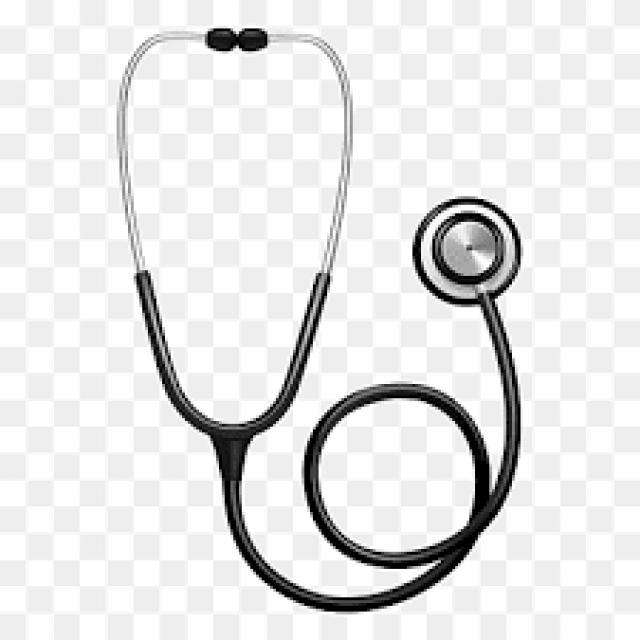stethoscope: (113, 23, 559, 599)
